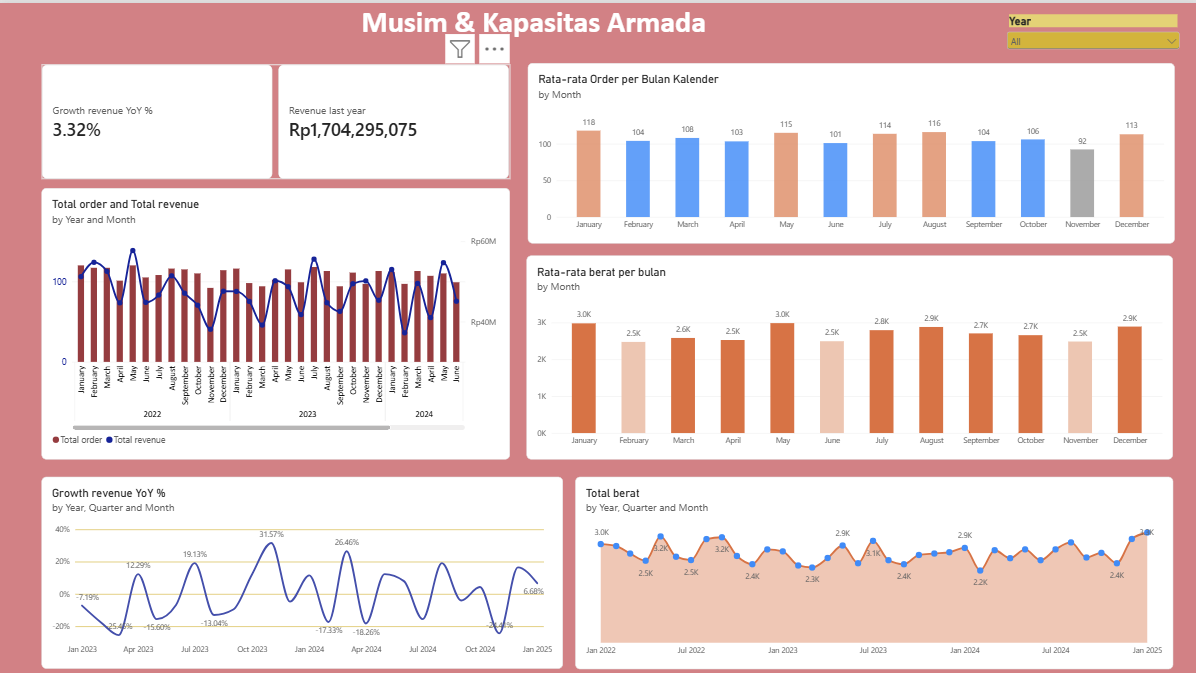

Layout of this report page (visuals, bound fields, positions):
{"tool":"powerbi","page":{"name":"Musim & Kapasitas","canvas":[1920,1080],"ordinal":5},"visuals":[{"type":"textbox","box":[579.8,0,686.2,98],"z":0},{"type":"cardVisual","fields":{"Data":["measure.Growth revenue YoY %","measure.Revenue last year"]},"box":[68.8,97.7,749.2,184.6],"z":1000},{"type":"lineClusteredColumnComboChart","fields":{"Category":["shipments.pickup_date.Variation.Date Hierarchy.Year","shipments.pickup_date.Variation.Date Hierarchy.Month"],"Y":["measure.Total order"],"Y2":["measure.Total revenue"]},"box":[69,296.4,749.5,434.4],"z":2000},{"type":"clusteredColumnChart","fields":{"Category":["shipments.pickup_date.Variation.Date Hierarchy.Month"],"Y":["measure.Rata-rata Order per Bulan Kalender"]},"box":[845.5,96.8,1035.4,288.7],"z":3000},{"type":"lineChart","fields":{"Category":["shipments.pickup_date.Variation.Date Hierarchy.Year","shipments.pickup_date.Variation.Date Hierarchy.Quarter","shipments.pickup_date.Variation.Date Hierarchy.Month"],"Y":["measure.Growth revenue YoY %"]},"box":[68.9,757.9,834.3,307.3],"z":4000},{"type":"areaChart","fields":{"Category":["shipments.pickup_date.Variation.Date Hierarchy.Year","shipments.pickup_date.Variation.Date Hierarchy.Quarter","shipments.pickup_date.Variation.Date Hierarchy.Month"],"Y":["measure.Total berat"]},"box":[922.9,758.8,956.5,307.6],"z":5000},{"type":"clusteredColumnChart","fields":{"Category":["shipments.pickup_date.Variation.Date Hierarchy.Month"],"Y":["measure.Rata-rata berat per bulan"]},"box":[844.6,404.6,1034.8,326.3],"z":6000},{"type":"slicer","fields":{"Values":["shipments.pickup_date.Variation.Date Hierarchy.Year"]},"box":[1608.8,18.1,285.9,95.9],"z":7000}]}

Visuals, with their boxes in screenshot pixels (x1, y1, x2, y2), scaled from the page's 1920x1080 canvas onto the 1196x673 screenshot:
textbox: bbox=[361, 0, 789, 61]
cardVisual - measure.Growth revenue YoY % x measure.Revenue last year: bbox=[43, 61, 510, 176]
lineClusteredColumnComboChart - shipments.pickup_date.Variation.Date Hierarchy.Year x shipments.pickup_date.Variation.Date Hierarchy.Month: bbox=[43, 185, 510, 455]
clusteredColumnChart - shipments.pickup_date.Variation.Date Hierarchy.Month x measure.Rata-rata Order per Bulan Kalender: bbox=[527, 60, 1172, 240]
lineChart - shipments.pickup_date.Variation.Date Hierarchy.Year x shipments.pickup_date.Variation.Date Hierarchy.Quarter: bbox=[43, 472, 563, 664]
areaChart - shipments.pickup_date.Variation.Date Hierarchy.Year x shipments.pickup_date.Variation.Date Hierarchy.Quarter: bbox=[575, 473, 1171, 665]
clusteredColumnChart - shipments.pickup_date.Variation.Date Hierarchy.Month x measure.Rata-rata berat per bulan: bbox=[526, 252, 1171, 455]
slicer - shipments.pickup_date.Variation.Date Hierarchy.Year: bbox=[1002, 11, 1180, 71]
